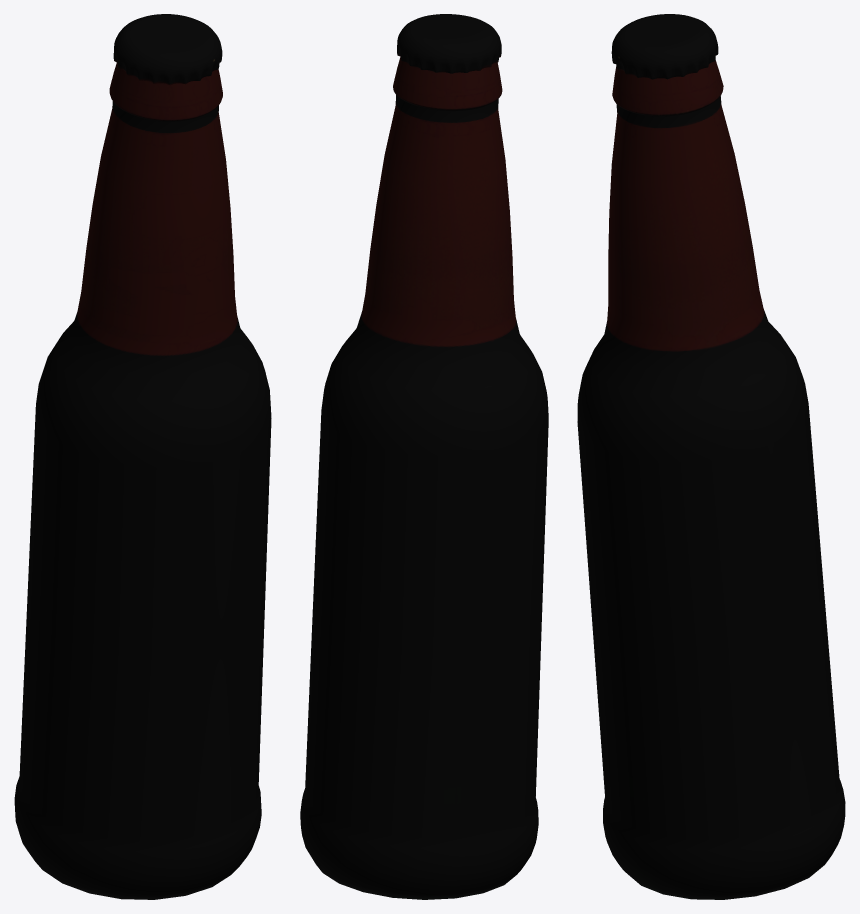
Rendered from honey-beer-bottle.glb.
3 views of the same model, side by side, from view 1: azimuth 30°, elevation 25°; view 2: azimuth 150°, elevation 25°; view 3: azimuth 270°, elevation 25° (orthographic). The views are drawn at different scales.
Parts seen in each view (by area): view 1: node_id30; view 2: node_id30; view 3: node_id30.
Boxes of the visible parts, <box> form: node_id30: <box>14,14,271,899</box>; node_id30: <box>300,14,548,899</box>; node_id30: <box>577,14,845,899</box>.
Size of the model in its own units: 0.1363 by 0.5162 by 0.1505.
Materials: 1 (1 with a texture image).
